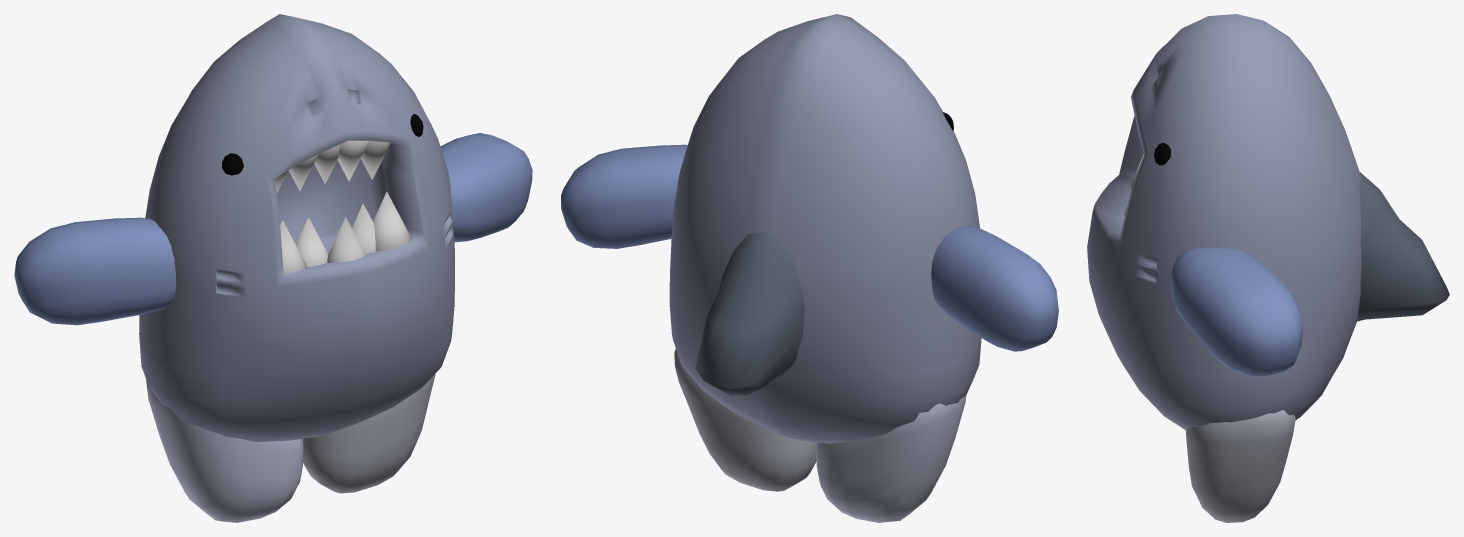
The model's file is babySHARK1222ิ.glb.
3 views of the same model, side by side, from view 1: azimuth 30°, elevation 25°; view 2: azimuth 150°, elevation 25°; view 3: azimuth 270°, elevation 25° (orthographic). The views are drawn at different scales.
Visible parts, largest first — view 1: BODY, arm le, leg le, leg ri, arm ri, Cone.009, Cone.007, Cone.005, Cone.006, Cone.004, Cone.008, Cone.003; view 2: BODY, Roundcube, arm le, leg le, arm ri, leg ri; view 3: BODY, arm ri, leg ri, Roundcube.
Boxes of the visible parts, left/top/right/bottom form: BODY: left=139, top=14, right=454, bottom=441; arm le: left=14, top=217, right=176, bottom=325; leg le: left=146, top=380, right=303, bottom=522; leg ri: left=302, top=373, right=435, bottom=493; arm ri: left=440, top=133, right=532, bottom=242; Cone.009: left=373, top=191, right=411, bottom=251; Cone.007: left=327, top=217, right=365, bottom=262; Cone.005: left=296, top=217, right=328, bottom=267; Cone.006: left=280, top=220, right=307, bottom=273; Cone.004: left=337, top=140, right=369, bottom=181; Cone.008: left=352, top=203, right=375, bottom=253; Cone.003: left=361, top=122, right=400, bottom=179; BODY: left=669, top=14, right=981, bottom=443; Roundcube: left=695, top=232, right=804, bottom=396; arm le: left=931, top=225, right=1058, bottom=351; leg le: left=816, top=395, right=966, bottom=522; arm ri: left=561, top=144, right=687, bottom=248; leg ri: left=674, top=349, right=816, bottom=491; BODY: left=1087, top=14, right=1361, bottom=430; arm ri: left=1170, top=247, right=1303, bottom=376; leg ri: left=1185, top=410, right=1295, bottom=522; Roundcube: left=1357, top=172, right=1449, bottom=321.
Size of the model in its own units: 3.97 by 3.69 by 2.55.
